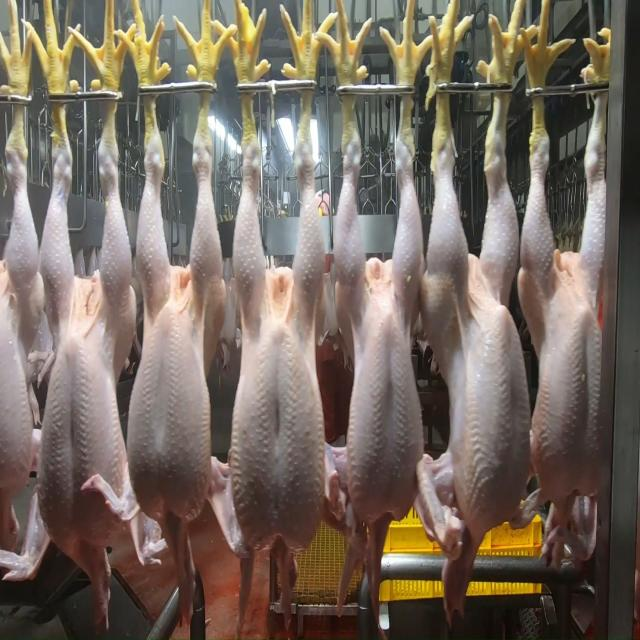chicken: (232, 124, 327, 542), (34, 143, 128, 564), (126, 136, 222, 523), (426, 133, 513, 539), (333, 135, 422, 527), (526, 127, 610, 506), (0, 137, 37, 554)
